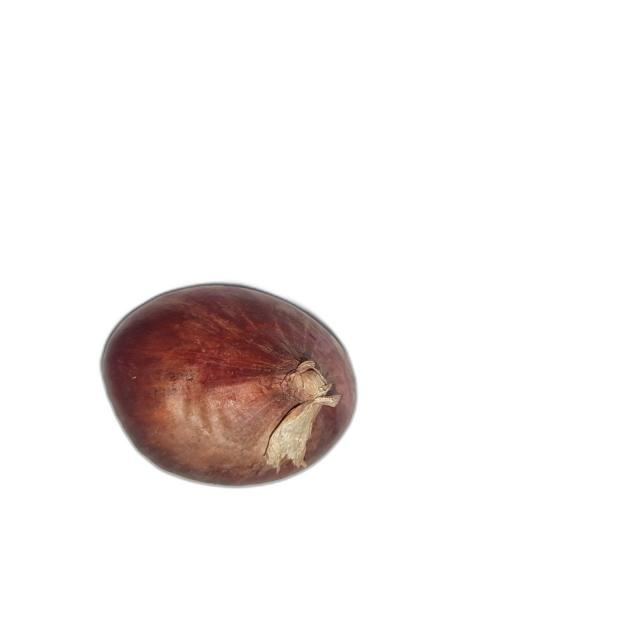onion: (97, 282, 363, 490)
